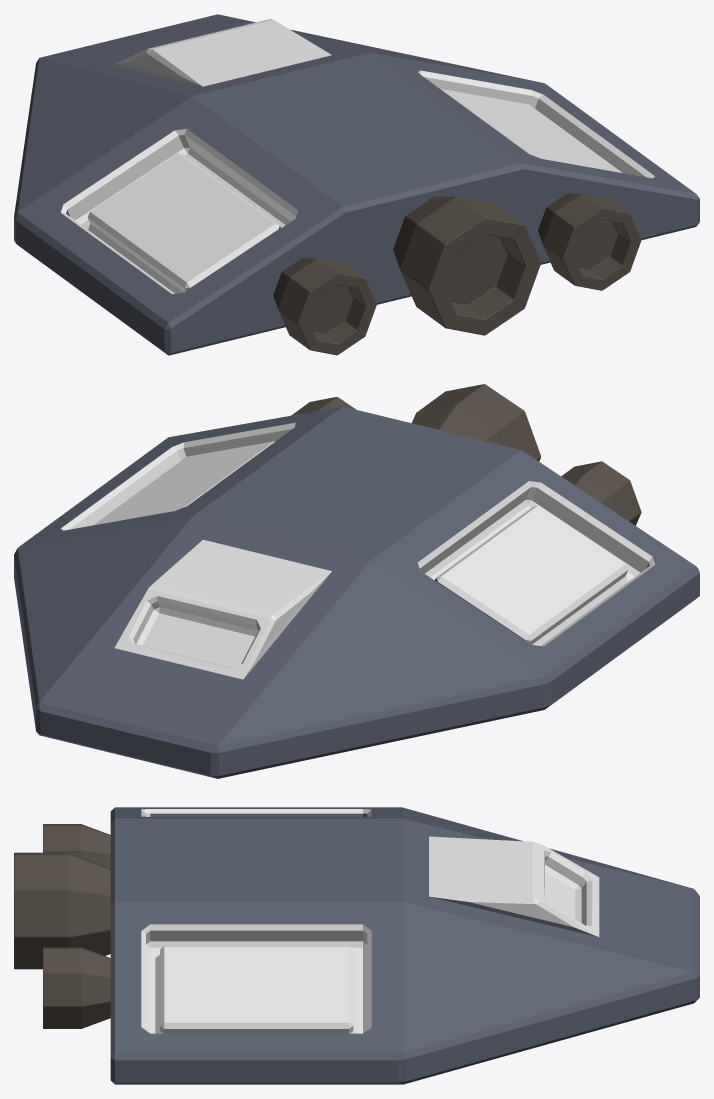
3 renders of one model, top to bottom at view 1: azimuth 30°, elevation 25°; view 2: azimuth 150°, elevation 25°; view 3: azimuth 270°, elevation 25°, orthographic. The views are drawn at different scales.
Parts seen in each view (by area): view 1: Plane, Circle, Circle.001; view 2: Plane, Circle, Circle.001; view 3: Plane, Circle, Circle.001.
Part boxes in pixels (<box>): Plane: <box>14,14,699,355</box>; Circle: <box>393,196,540,335</box>; Circle.001: <box>273,193,641,355</box>; Plane: <box>14,406,699,778</box>; Circle: <box>412,384,540,461</box>; Circle.001: <box>291,397,641,525</box>; Plane: <box>110,807,699,1084</box>; Circle: <box>14,852,110,969</box>; Circle.001: <box>43,824,110,1028</box>.
Bounding box in the file's own units: 200 × 42.03 × 233.
